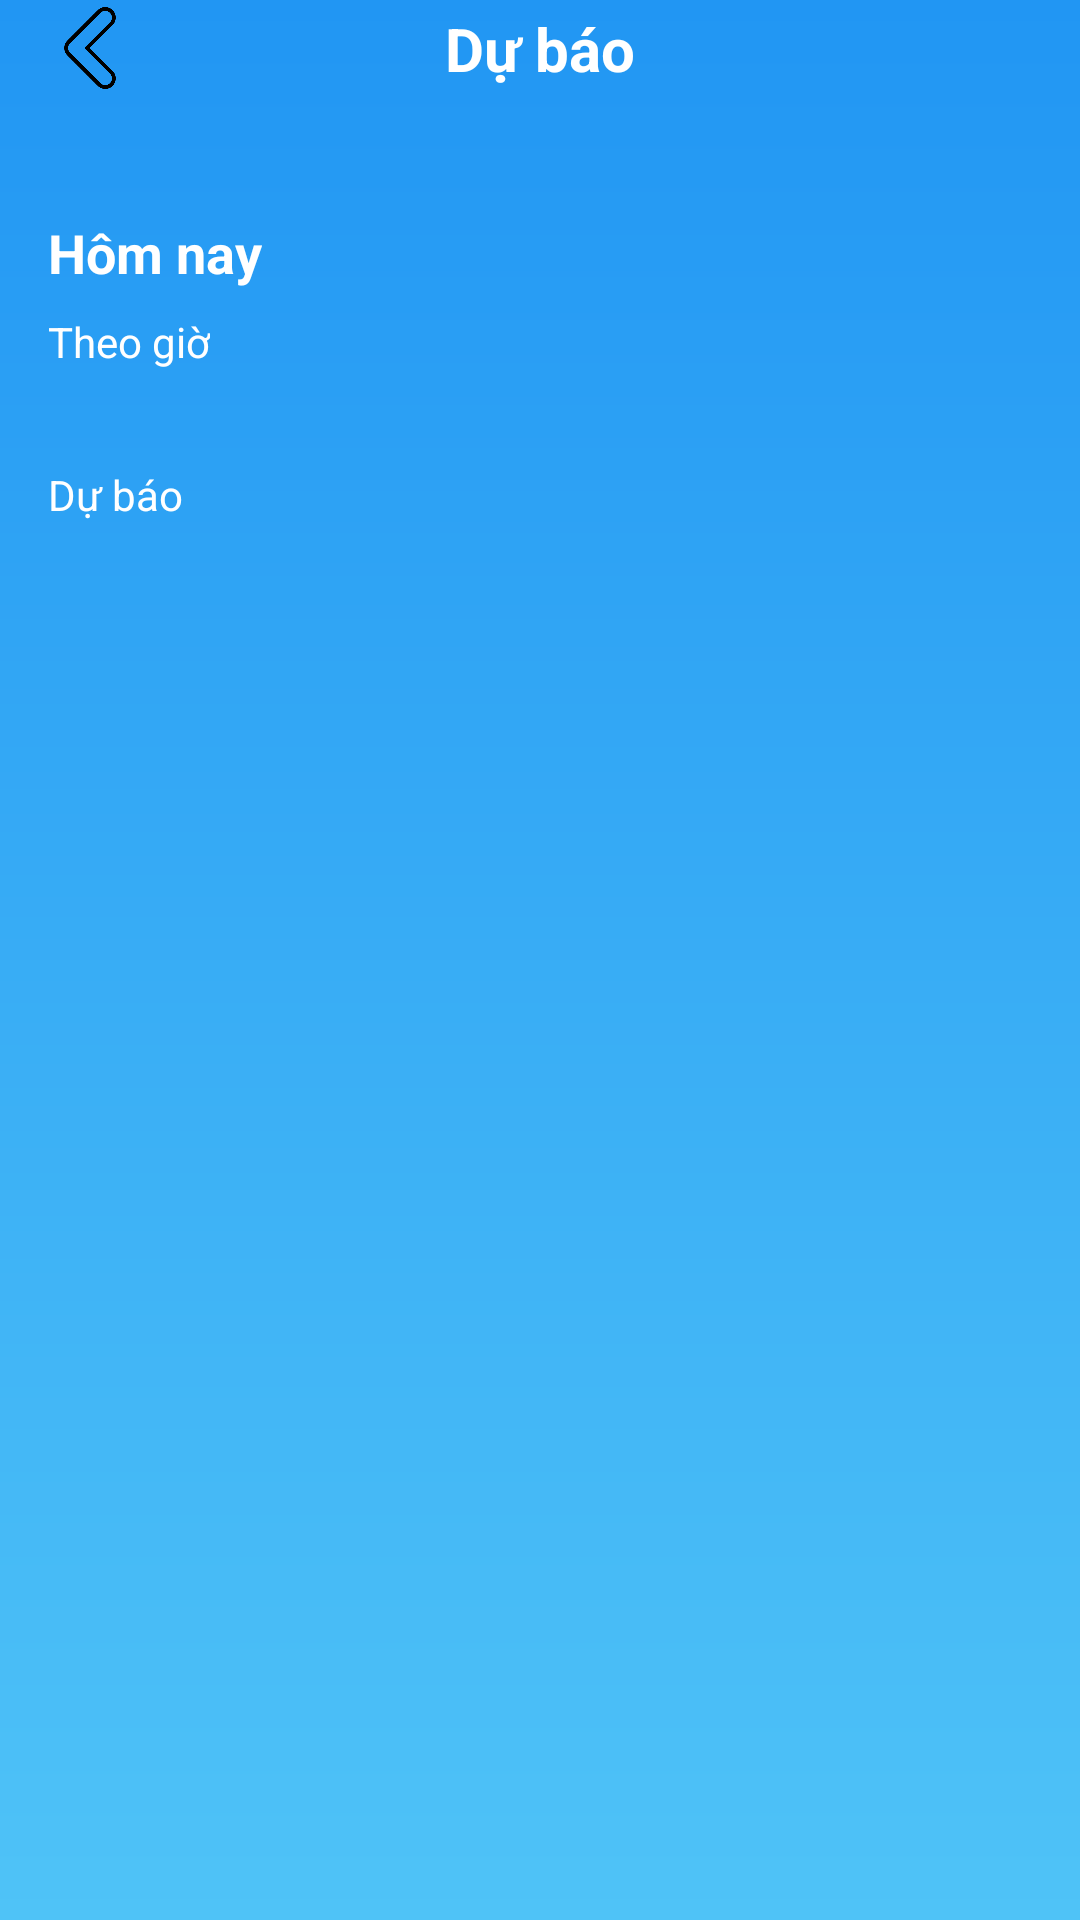

Named icons in this screenshot (1080 × 1920) and their bounding boxes, (x1, y1, x2, y2):
Back: (64, 7, 116, 89)
